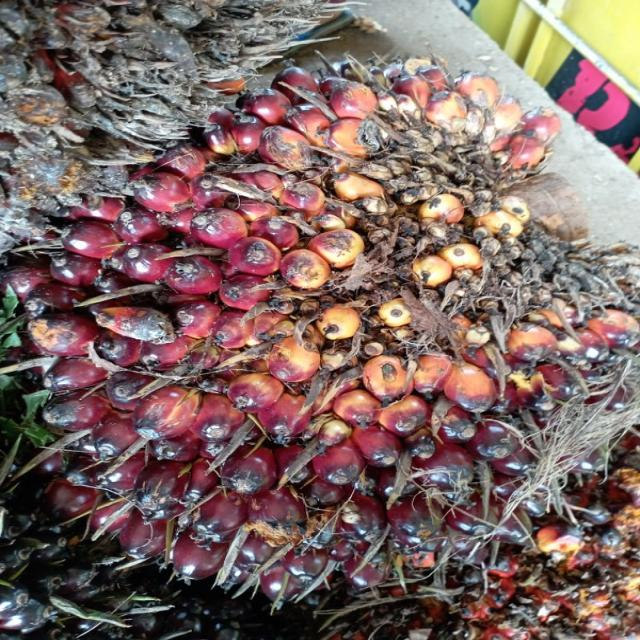fraksi 3: (30, 59, 631, 596)
